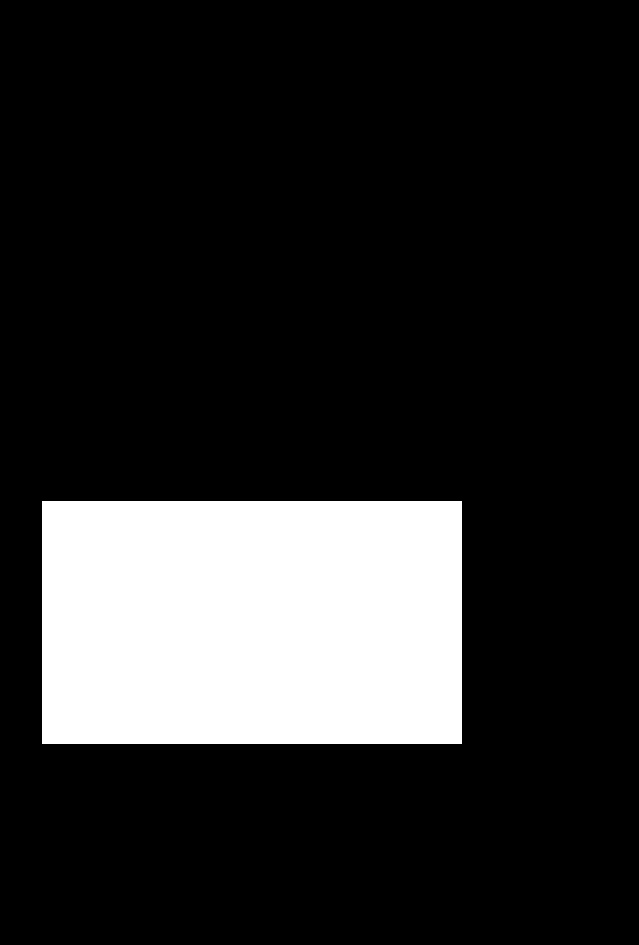table: (42, 501, 461, 743)
